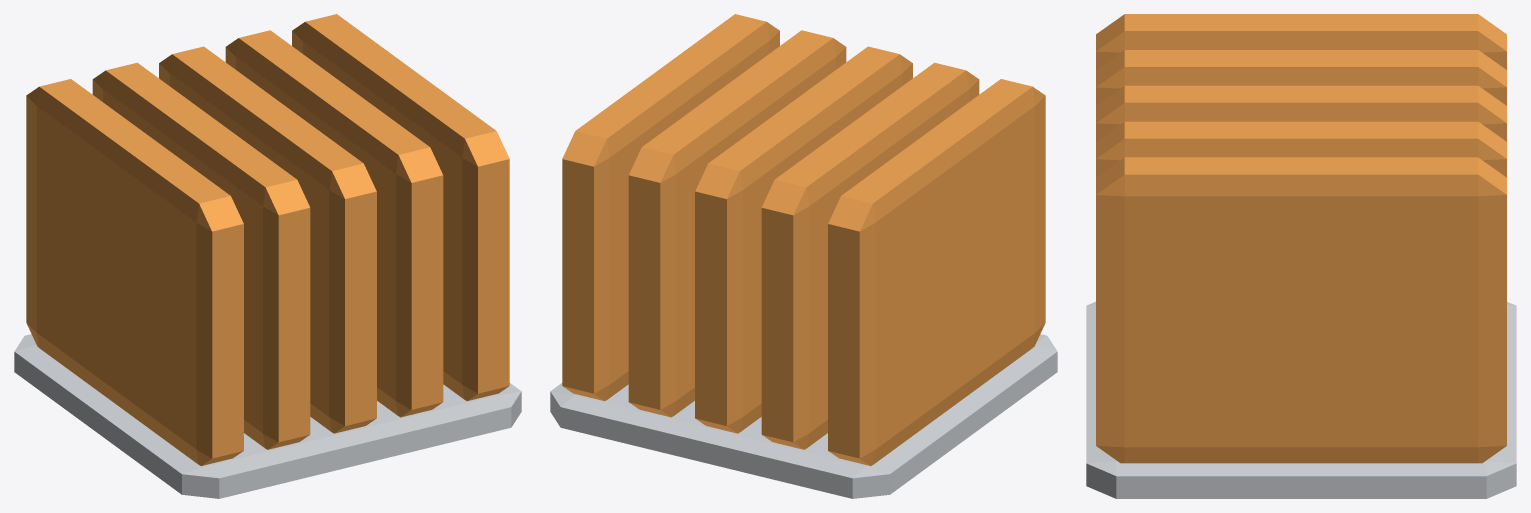
The model's file is b01_standing_barrel_community_table.glb.
The picture shows the model from 3 angles, left to right: view 1: azimuth 30°, elevation 25°; view 2: azimuth 150°, elevation 25°; view 3: azimuth 270°, elevation 25°; orthographic projection. The views are drawn at different scales.
Parts seen in each view (by area): view 1: b01_standing_barrel_community_table; view 2: b01_standing_barrel_community_table; view 3: b01_standing_barrel_community_table.
Part boxes in pixels (left/top/right/bottom): b01_standing_barrel_community_table: left=14, top=14, right=521, bottom=498; b01_standing_barrel_community_table: left=550, top=14, right=1057, bottom=498; b01_standing_barrel_community_table: left=1086, top=14, right=1516, bottom=498.
Size of the model in its own units: 1.32 by 1.06 by 1.31.
